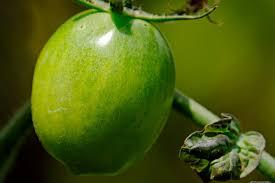Mengkal: (29, 9, 179, 178)
